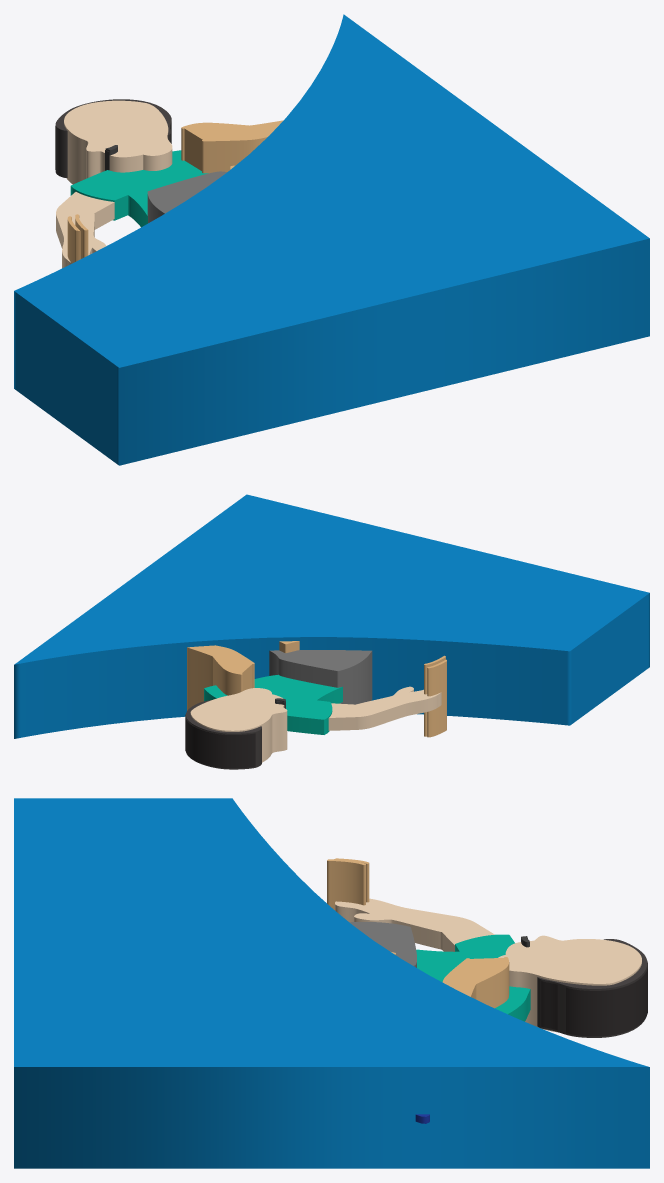
The model's file is emoji_u1f3c4_1f3fb_200d_2642.glb.
The picture shows the model from 3 angles, top to bottom: view 1: azimuth 30°, elevation 25°; view 2: azimuth 150°, elevation 25°; view 3: azimuth 270°, elevation 25°; orthographic projection. The views are drawn at different scales.
Parts seen in each view (by area): view 1: emoji_u1f3c4_1f3fb_200d_2642; view 2: emoji_u1f3c4_1f3fb_200d_2642; view 3: emoji_u1f3c4_1f3fb_200d_2642.
Part boxes in pixels (x1=…): emoji_u1f3c4_1f3fb_200d_2642: x1=14, y1=14, x2=649, y2=465; emoji_u1f3c4_1f3fb_200d_2642: x1=14, y1=494, x2=649, y2=769; emoji_u1f3c4_1f3fb_200d_2642: x1=14, y1=798, x2=649, y2=1168.
Bounding box in the file's own units: 0.0332 × 0.0058 × 0.0329.
